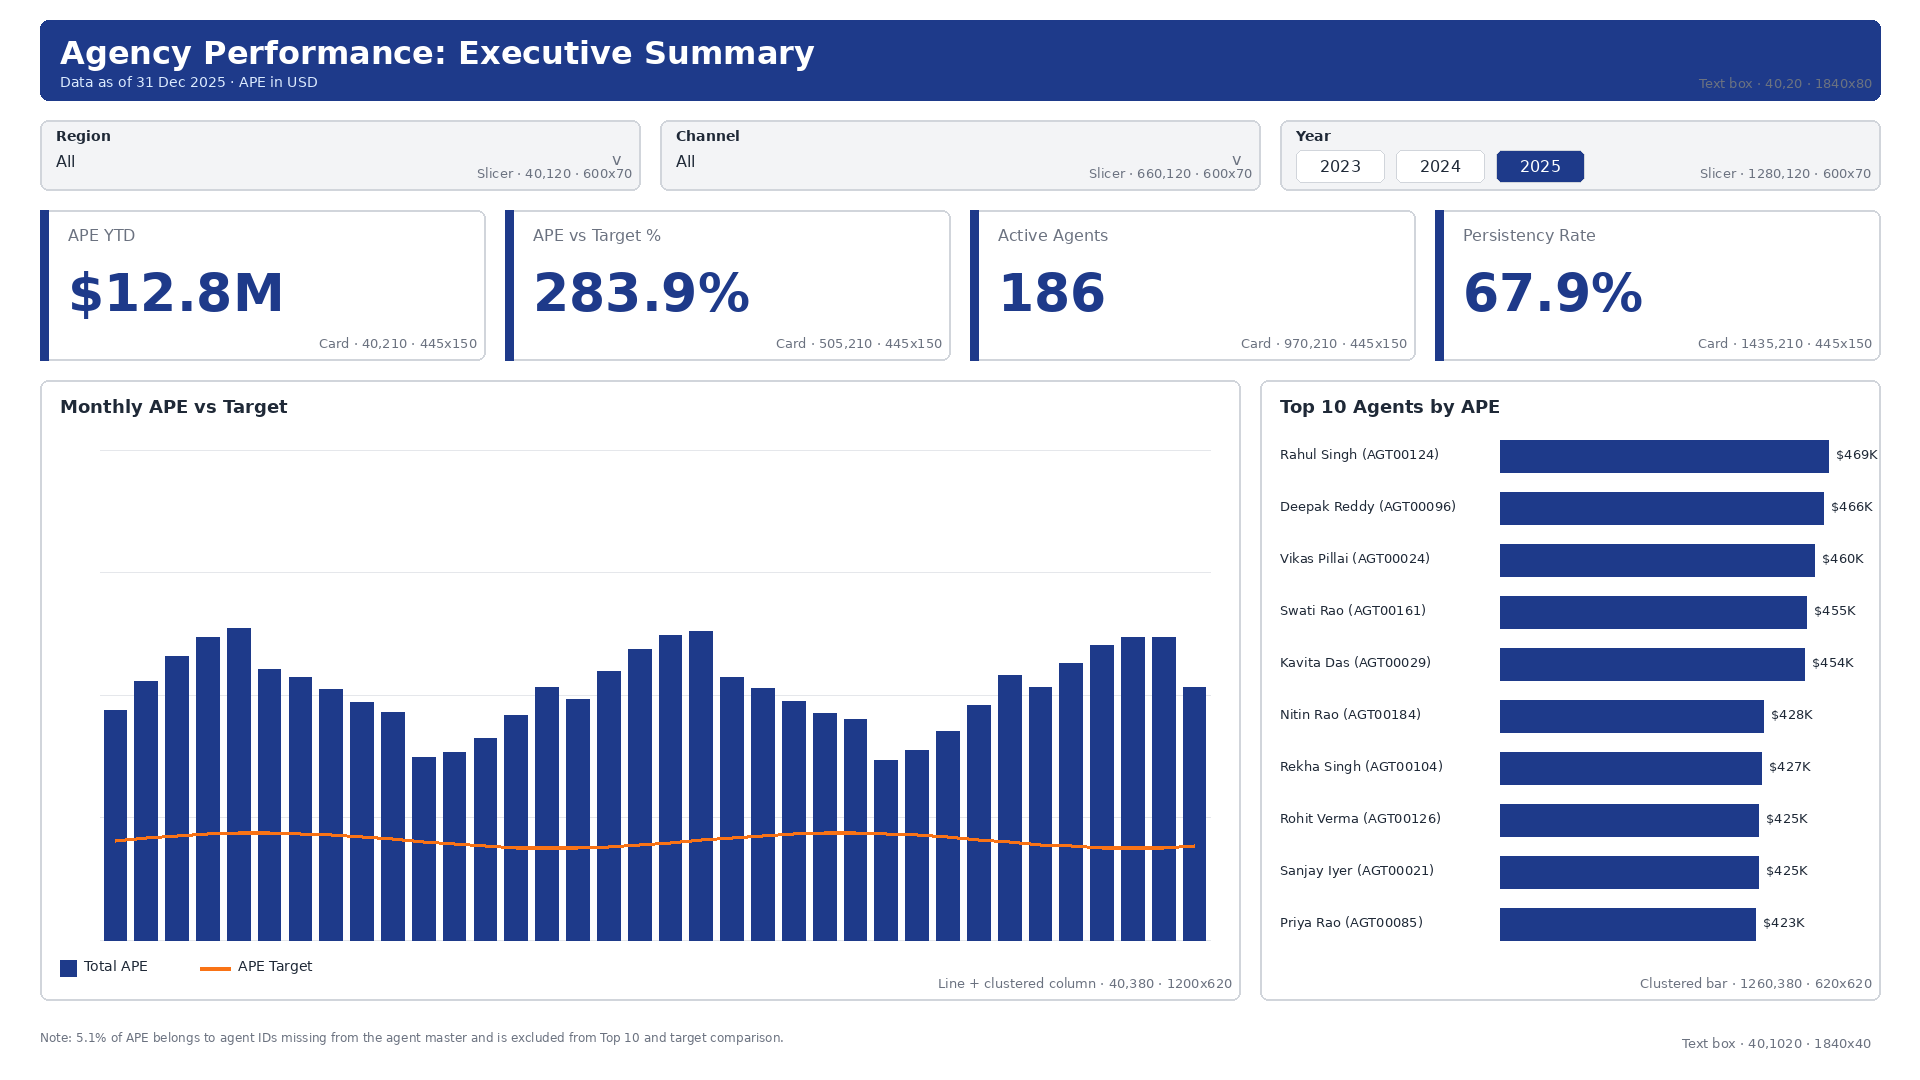

This screenshot's page, from the dashboard's own definition file:
{"tool":"powerbi","page":{"name":"\tExecutive Summary","canvas":[1920,1080],"ordinal":0},"visuals":[{"type":"textbox","title":"  Agency Performance: Executive Summary","box":[40,20,1840,80],"z":0},{"type":"slicer","fields":{"Values":["dim_agent.region"]},"box":[40,120,600,70],"z":1000},{"type":"slicer","fields":{"Values":["dim_agent.channel"]},"box":[660,120,600,70],"z":2000},{"type":"slicer","fields":{"Values":["dim_date.year"]},"box":[1280,120,600,70],"z":3000},{"type":"cardVisual","fields":{"Data":["_Measures.APE YTD"]},"box":[40,210,445,150],"z":4000},{"type":"cardVisual","fields":{"Data":["_Measures.APE vs Target %"]},"box":[505,210,445,150],"z":5000},{"type":"cardVisual","fields":{"Data":["_Measures.Active Agent Count"]},"box":[976,210,445,150],"z":6000},{"type":"cardVisual","fields":{"Data":["_Measures.Persistency Rate"]},"box":[1435,210,445,150],"z":7000},{"type":"lineClusteredColumnComboChart","title":"Monthly APE vs target","fields":{"Category":["dim_date.month_start_date"],"Y":["_Measures.Total APE"],"Y2":["_Measures.APE Target"]},"box":[40,380,1200,620],"z":8000},{"type":"clusteredBarChart","title":"Top 10 agents by APE","fields":{"Category":["dim_agent.agent_label"],"Y":["_Measures.Total APE"]},"box":[1260,380,620,620],"z":9000},{"type":"textbox","box":[40,1020,1820,40],"z":10000}]}

Visuals, with their boxes in screenshot pixels (x1, y1, x2, y2), scaled from the page's 1920x1080 canvas onto the 1920x1080 screenshot:
"  Agency Performance: Executive Summary" textbox: bbox=(40, 20, 1880, 100)
slicer - dim_agent.region: bbox=(40, 120, 640, 190)
slicer - dim_agent.channel: bbox=(660, 120, 1260, 190)
slicer - dim_date.year: bbox=(1280, 120, 1880, 190)
cardVisual - _Measures.APE YTD: bbox=(40, 210, 485, 360)
cardVisual - _Measures.APE vs Target %: bbox=(505, 210, 950, 360)
cardVisual - _Measures.Active Agent Count: bbox=(976, 210, 1421, 360)
cardVisual - _Measures.Persistency Rate: bbox=(1435, 210, 1880, 360)
"Monthly APE vs target" lineClusteredColumnComboChart: bbox=(40, 380, 1240, 1000)
"Top 10 agents by APE" clusteredBarChart: bbox=(1260, 380, 1880, 1000)
textbox: bbox=(40, 1020, 1860, 1060)
